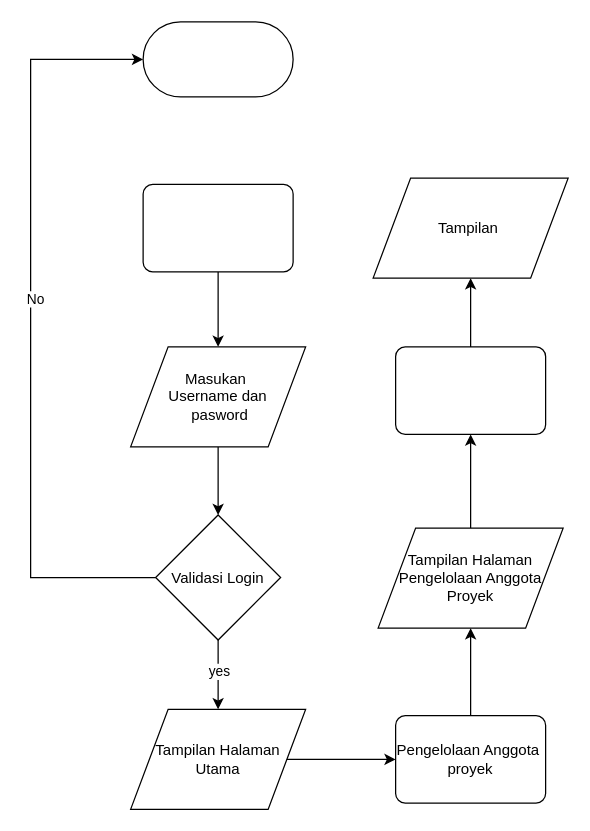
Image size: 590x831. Some labels were removed from this diagram. Here are the shapes that lost their labels. From the top down, the centre of each, then its label:
At pixel 217 59: "Start".
At pixel 217 227: "login".
At pixel 470 390: "Tambah Data Anggota Proyek".
